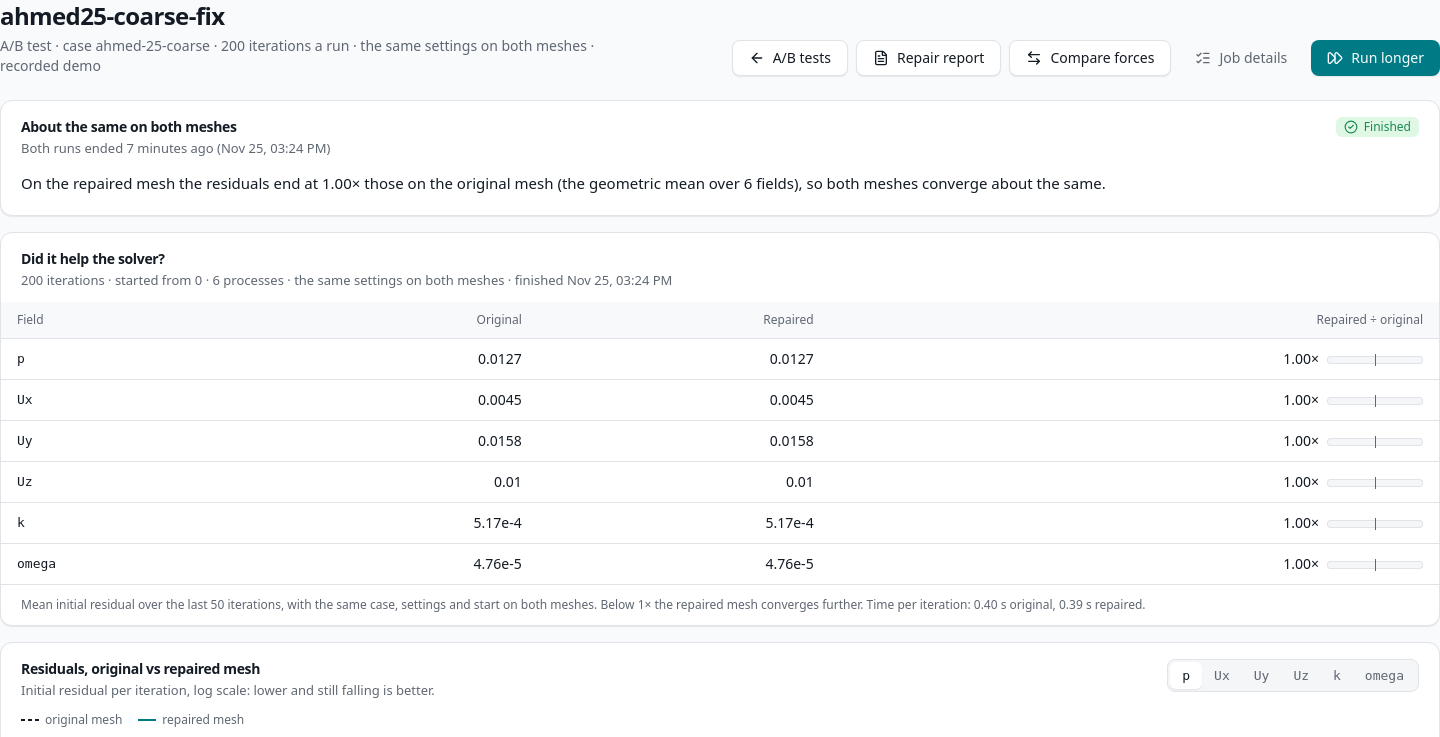
Test case: running an A/B test longer › in the demo, gives the command that does the same
Click the button "Run longer": (1376, 58) [1311,40,1439,76]
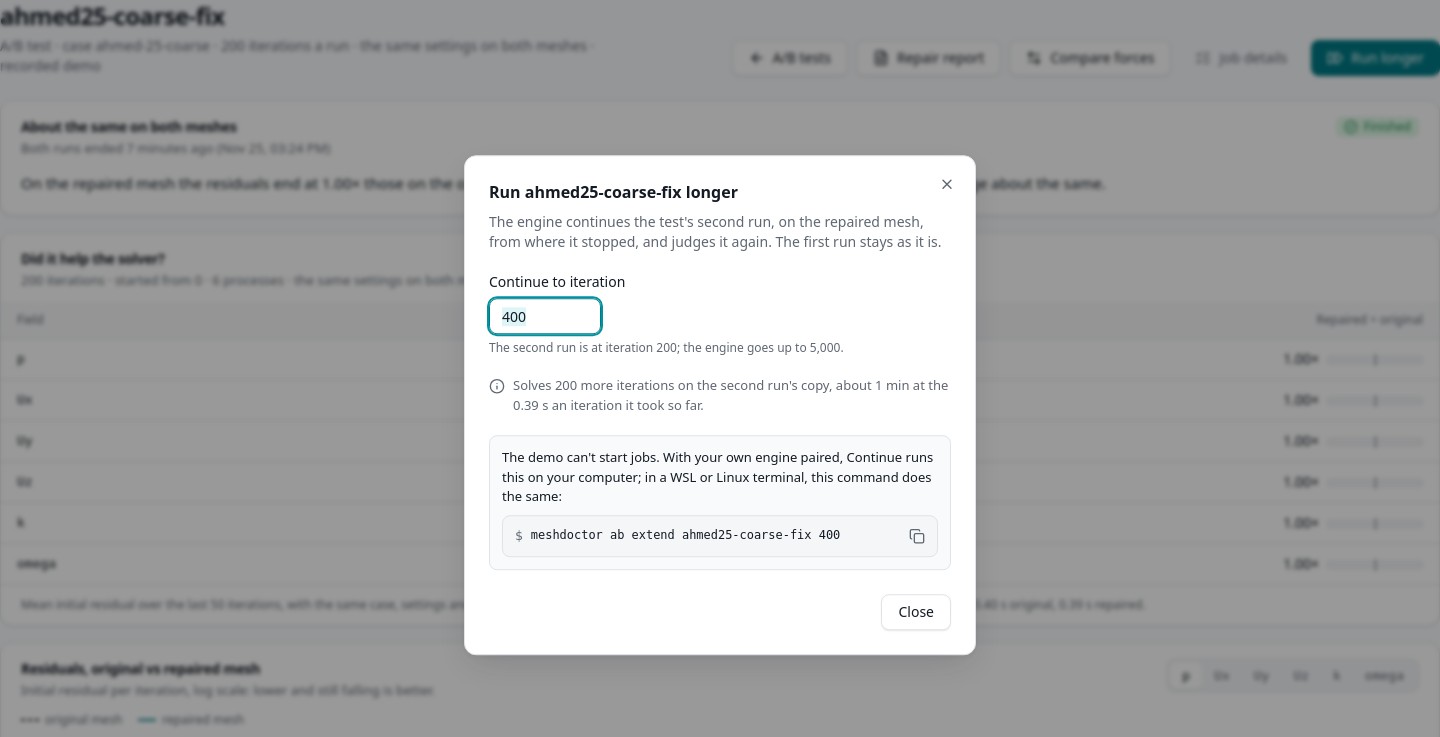
Expected: the dialog shows "The demo can't start jobs. With your own engine paired, Continue runs this on your computer", [464,155,976,655]
Expected: the text "meshdoctor ab extend ahmed25-coarse-fix 400" is shown, [531,528,840,542]
